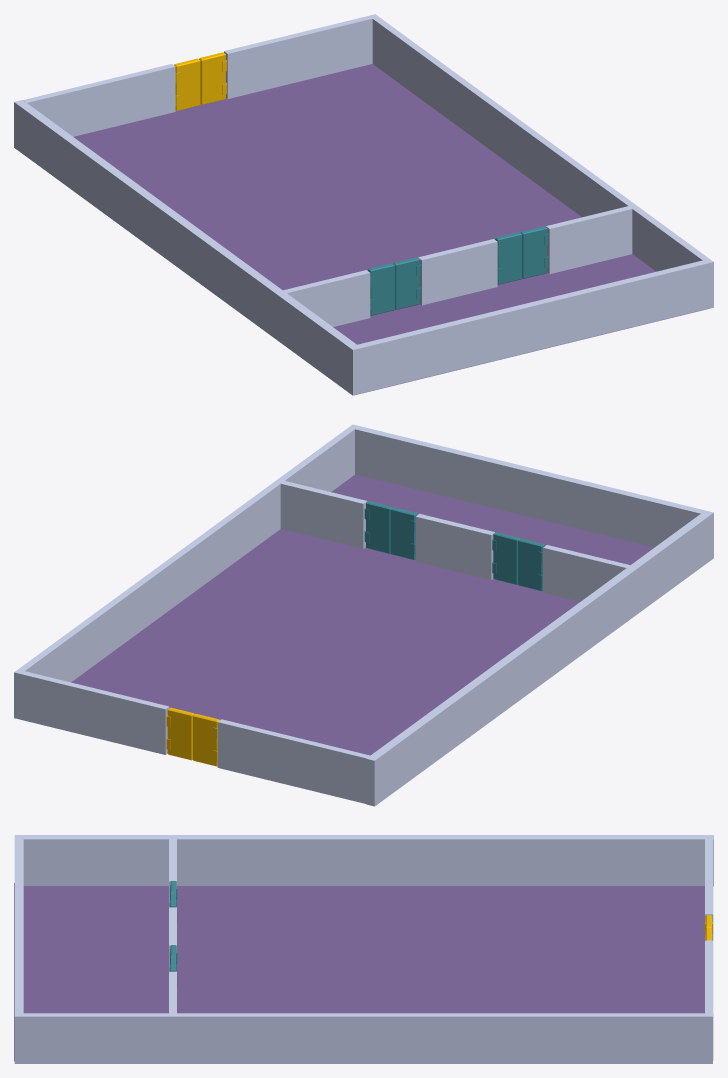
The model's file is maps35.fbx.
The picture shows the model from 3 angles, top to bottom: view 1: azimuth 30°, elevation 25°; view 2: azimuth 150°, elevation 25°; view 3: azimuth 270°, elevation 25°; orthographic projection. The views are drawn at different scales.
Parts seen in each view (by area): view 1: wall_01_08_geo, wall_01_07_geo, wall_01_05_geo, wall_01_06_geo, wall_01_09_geo10, wall_01_09_geo, wall_01_09_geo9, wall_01_09_geo11, wall_01_09_geo12, polySurface6 (×2), polySurface2 (×2), polySurface165 (+1 smaller); view 2: wall_01_08_geo, wall_01_07_geo, wall_01_05_geo, wall_01_06_geo, wall_01_09_geo, wall_01_09_geo10, wall_01_09_geo9, wall_01_09_geo11, wall_01_09_geo12, polySurface6 (×2), polySurface2 (×2), polySurface165 (+1 smaller); view 3: wall_01_08_geo, wall_01_06_geo, wall_01_07_geo, wall_01_05_geo, wall_01_09_geo, wall_01_09_geo10, wall_01_09_geo12.
Boxes of the visible parts, x1,y1,x2,y2 form: wall_01_08_geo: (74, 64, 709, 394); wall_01_07_geo: (14, 100, 361, 395); wall_01_05_geo: (357, 260, 707, 393); wall_01_06_geo: (369, 14, 713, 309); wall_01_09_geo10: (224, 16, 372, 98); wall_01_09_geo: (23, 64, 175, 136); wall_01_09_geo9: (546, 206, 632, 273); wall_01_09_geo11: (418, 239, 497, 305); wall_01_09_geo12: (283, 270, 370, 326); polySurface6 (×2): (393, 226, 548, 309); polySurface2 (×2): (368, 232, 522, 315); polySurface165: (199, 52, 226, 104); wall_01_08_geo: (71, 474, 654, 755); wall_01_07_geo: (366, 510, 713, 806); wall_01_05_geo: (355, 426, 704, 547); wall_01_06_geo: (14, 424, 358, 719); wall_01_09_geo: (217, 719, 370, 803); wall_01_09_geo10: (20, 671, 169, 754); wall_01_09_geo9: (280, 481, 367, 548); wall_01_09_geo11: (415, 513, 494, 580); wall_01_09_geo12: (543, 545, 630, 601); polySurface6 (×2): (364, 501, 519, 584); polySurface2 (×2): (390, 507, 544, 591); polySurface165: (166, 707, 194, 760); wall_01_08_geo: (14, 883, 704, 1061); wall_01_06_geo: (14, 1013, 712, 1063); wall_01_07_geo: (14, 835, 713, 886); wall_01_05_geo: (14, 839, 23, 1013); wall_01_09_geo: (705, 839, 713, 940); wall_01_09_geo10: (705, 940, 713, 1060); wall_01_09_geo12: (169, 839, 176, 907).
Bounding box in the file's own units: 73.34 × 9.12 × 119.
2 materials, 2 textured.
